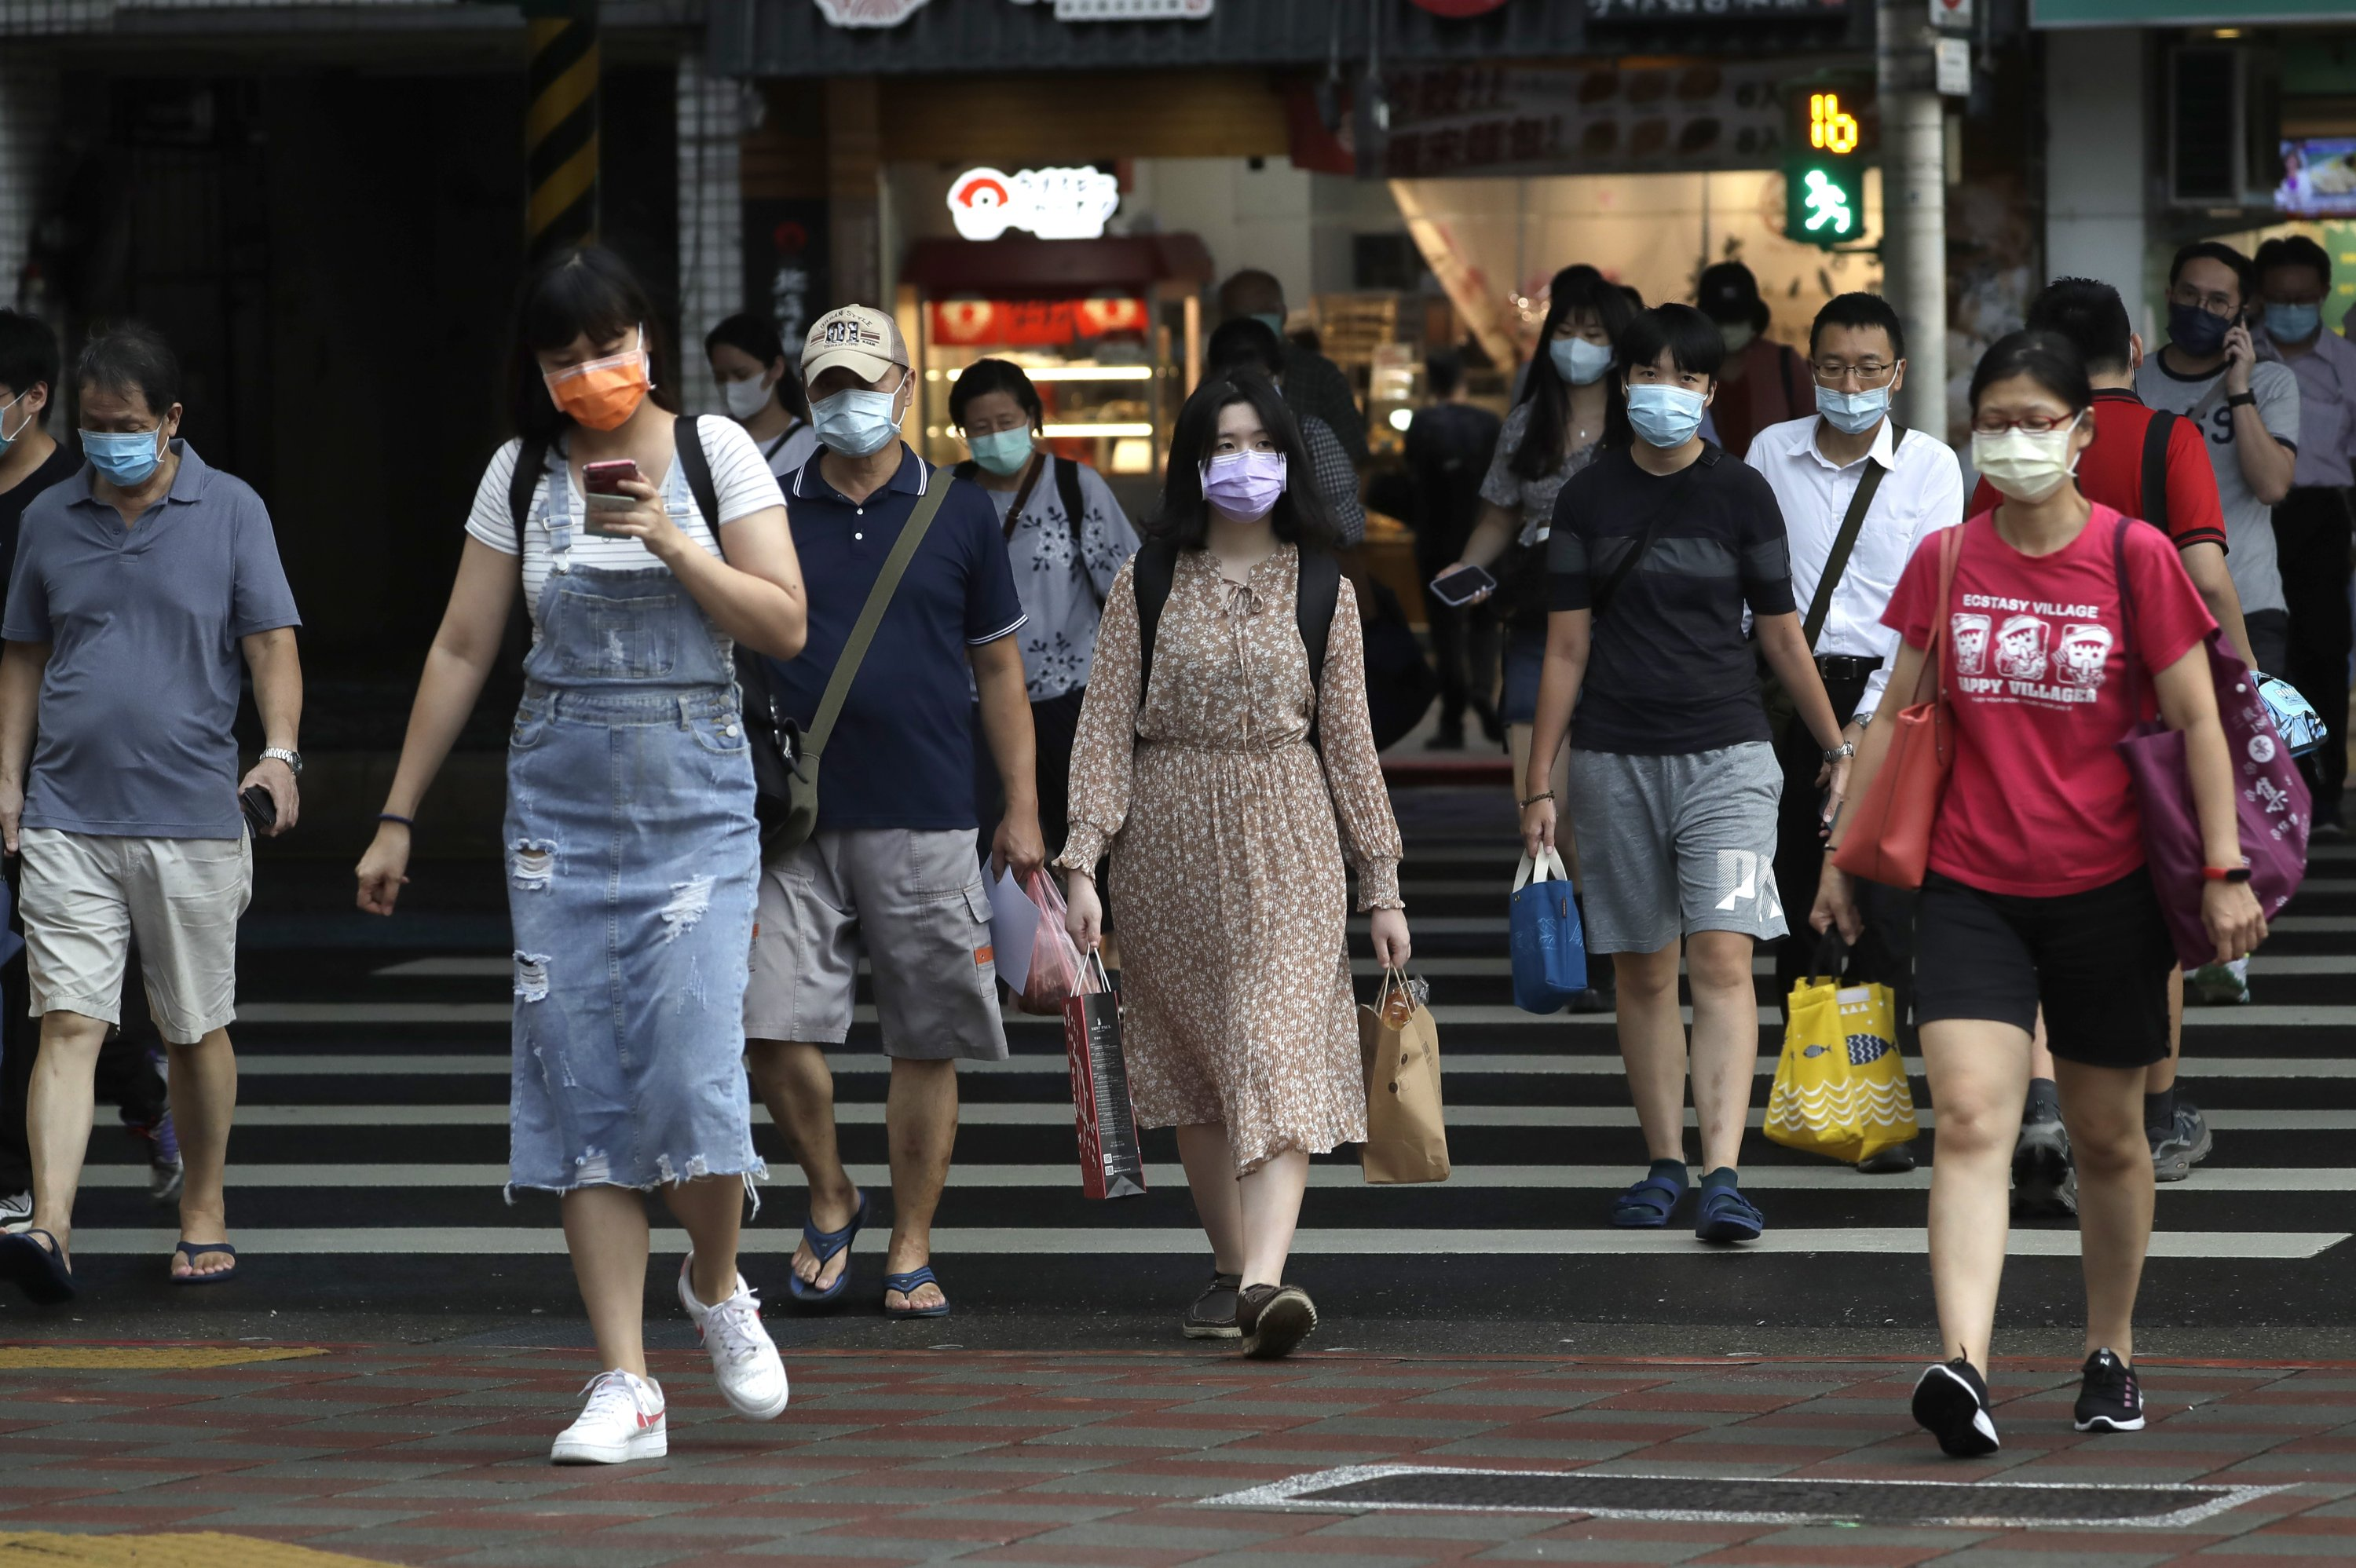with_mask: (540, 285, 648, 451), (75, 360, 170, 498), (805, 349, 905, 478), (1974, 362, 2058, 505), (1193, 395, 1285, 522), (1809, 305, 1887, 431), (953, 381, 1032, 481), (1636, 342, 1693, 466), (711, 334, 779, 418), (2174, 248, 2226, 351), (2266, 262, 2320, 344), (1561, 311, 1601, 384)
